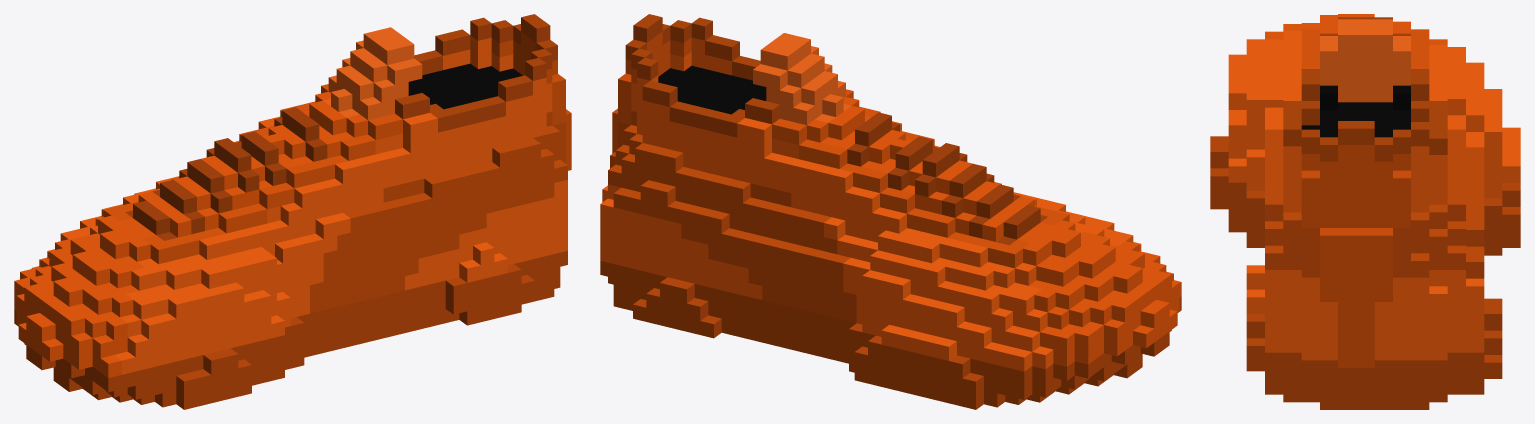
The model's file is Clementine.fbx.
3 views of the same model, side by side, from view 1: azimuth 30°, elevation 25°; view 2: azimuth 150°, elevation 25°; view 3: azimuth 270°, elevation 25° (orthographic). The views are drawn at different scales.
Parts seen in each view (by area): view 1: Untitled; view 2: Untitled; view 3: Untitled.
Part boxes in pixels (x1=…): Untitled: x1=14, y1=14, x2=571, y2=409; Untitled: x1=600, y1=14, x2=1181, y2=409; Untitled: x1=1210, y1=14, x2=1520, y2=409.
Bounding box in the file's own units: 390 × 180 × 170.
